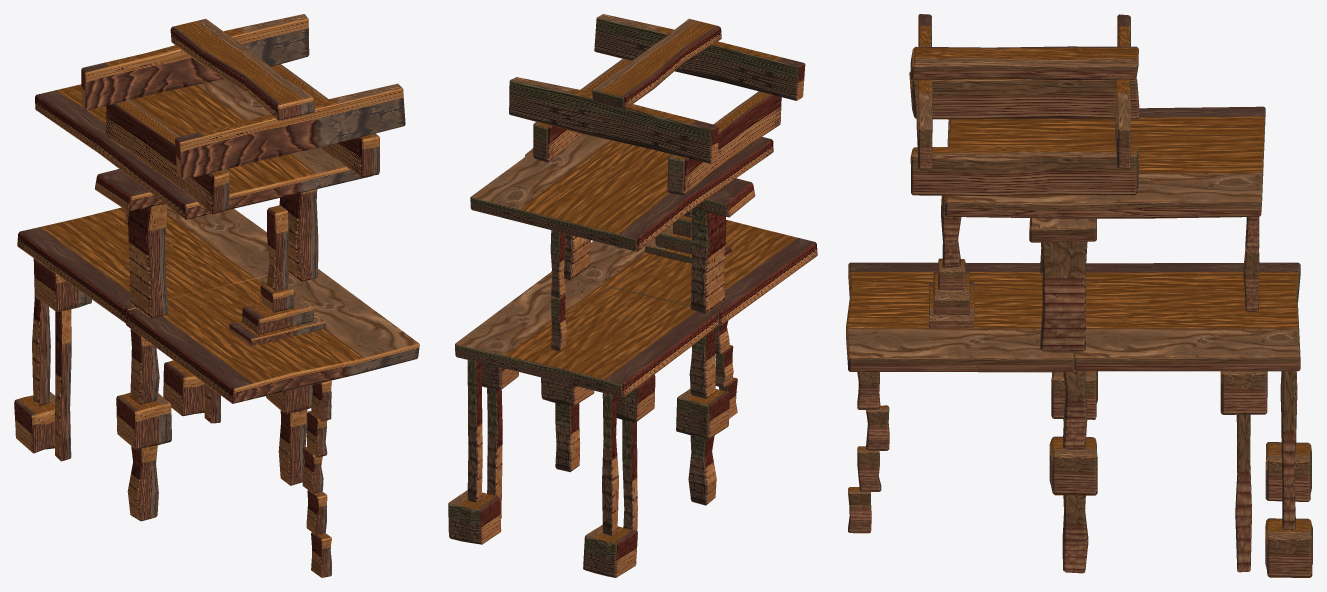
The model's file is M12_Dynamic1Wood_2kg.fbx.
3 renders of one model, left to right at view 1: azimuth 30°, elevation 25°; view 2: azimuth 150°, elevation 25°; view 3: azimuth 270°, elevation 25°, orthographic. The views are drawn at different scales.
Visible parts, largest first — view 1: D1Box6, D1Box13, D1Box27, D1Box30, D1Box31, D1Box32, D1Box29, D1Box14, D1Box15, D1Box10, D1Box17, D1Box28 (+19 smaller); view 2: D1Box13, D1Box27, D1Box6, D1Box31, D1Box30, D1Box32, D1Box29, D1Box14, D1Box23, D1Box22, D1Box10, D1Box21 (+17 smaller); view 3: D1Box27, D1Box13, D1Box6, D1Box28, D1Box29, D1Box32, D1Box15, D1Box23, D1Box9, D1Box20, D1Box24, D1Box19 (+16 smaller).
Boxes of the visible parts, left/top/right/bottom form: D1Box6: left=126, top=269, right=419, bottom=403; D1Box13: left=17, top=206, right=269, bottom=323; D1Box27: left=35, top=79, right=372, bottom=219; D1Box30: left=175, top=83, right=405, bottom=180; D1Box31: left=81, top=14, right=309, bottom=110; D1Box32: left=170, top=18, right=314, bottom=120; D1Box29: left=105, top=100, right=229, bottom=214; D1Box14: left=128, top=204, right=168, bottom=318; D1Box15: left=279, top=189, right=318, bottom=281; D1Box10: left=116, top=392, right=171, bottom=449; D1Box17: left=55, top=309, right=71, bottom=461; D1Box28: left=270, top=64, right=379, bottom=177; D1Box13: left=455, top=272, right=718, bottom=397; D1Box27: left=470, top=104, right=773, bottom=251; D1Box6: left=551, top=219, right=817, bottom=326; D1Box31: left=509, top=77, right=718, bottom=163; D1Box30: left=594, top=14, right=805, bottom=100; D1Box32: left=592, top=18, right=721, bottom=109; D1Box29: left=667, top=91, right=781, bottom=195; D1Box14: left=690, top=209, right=726, bottom=313; D1Box23: left=448, top=490, right=501, bottom=544; D1Box22: left=583, top=525, right=637, bottom=577; D1Box10: left=676, top=389, right=729, bottom=439; D1Box21: left=602, top=393, right=618, bottom=535; D1Box27: left=944, top=106, right=1265, bottom=218; D1Box13: left=1074, top=262, right=1300, bottom=371; D1Box6: left=846, top=262, right=1074, bottom=372; D1Box28: left=910, top=146, right=1138, bottom=196; D1Box29: left=909, top=71, right=1139, bottom=119; D1Box32: left=910, top=46, right=1138, bottom=80; D1Box15: left=1040, top=241, right=1085, bottom=351; D1Box23: left=1265, top=518, right=1312, bottom=577; D1Box9: left=1049, top=436, right=1097, bottom=495; D1Box20: left=1235, top=414, right=1251, bottom=572; D1Box24: left=1281, top=371, right=1296, bottom=530; D1Box19: left=1220, top=371, right=1267, bottom=414.
Size of what is drawn, in the model's own units: 12.25 by 23.29 by 20.65.
